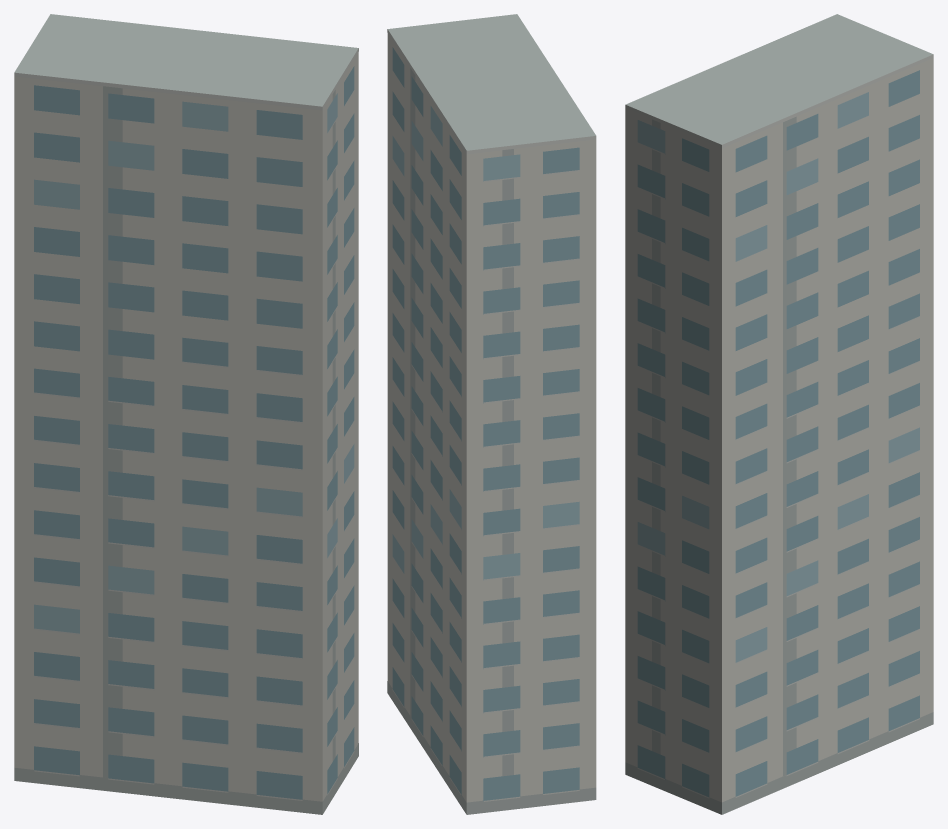
Rendered from residential-56c3cecf-f2ad-4654-a1f3-749bbb8dad20.glb.
The picture shows the model from 3 angles, left to right: view 1: azimuth 30°, elevation 25°; view 2: azimuth 150°, elevation 25°; view 3: azimuth 270°, elevation 25°; orthographic projection. The views are drawn at different scales.
Parts seen in each view (by area): view 1: residential-56c3cecf-f2ad-4654-a1f3-749bbb8dad20.tmp; view 2: residential-56c3cecf-f2ad-4654-a1f3-749bbb8dad20.tmp; view 3: residential-56c3cecf-f2ad-4654-a1f3-749bbb8dad20.tmp.
Boxes of the visible parts, x1=… form: residential-56c3cecf-f2ad-4654-a1f3-749bbb8dad20.tmp: x1=14, y1=14, x2=358, y2=814; residential-56c3cecf-f2ad-4654-a1f3-749bbb8dad20.tmp: x1=387, y1=14, x2=596, y2=814; residential-56c3cecf-f2ad-4654-a1f3-749bbb8dad20.tmp: x1=625, y1=14, x2=933, y2=814.
Bounding box in the file's own units: 19.28 × 46 × 19.19.
